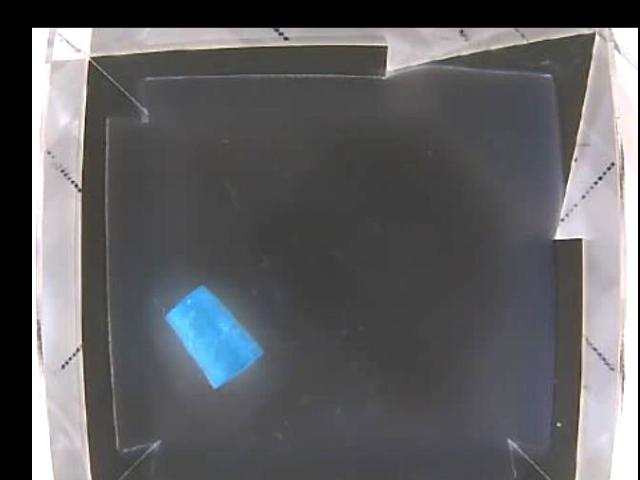Carrot: (166, 284, 264, 389)
